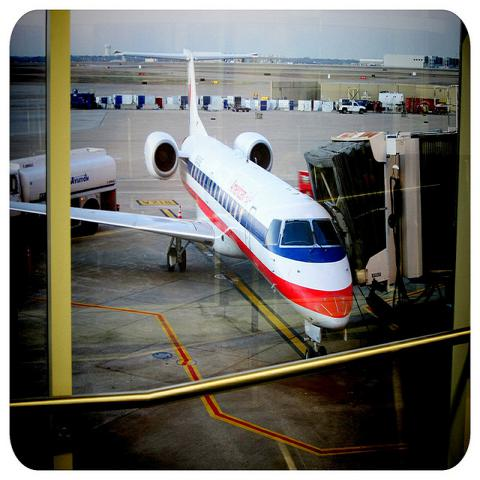truck: (74, 146, 119, 210), (335, 98, 366, 114)
